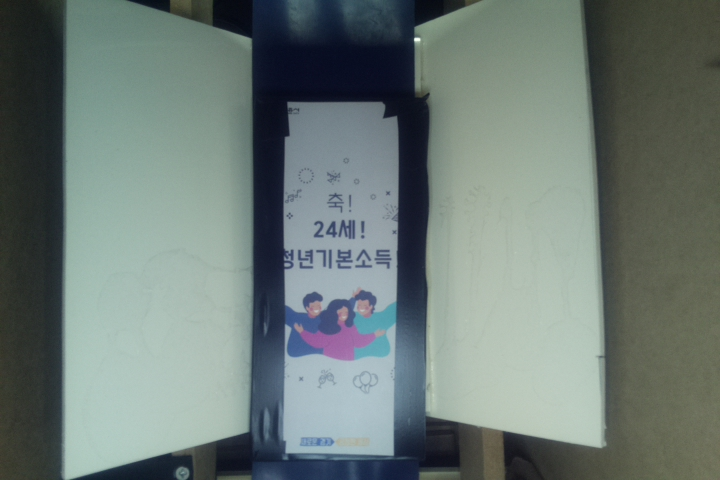book: (250, 93, 433, 462)
